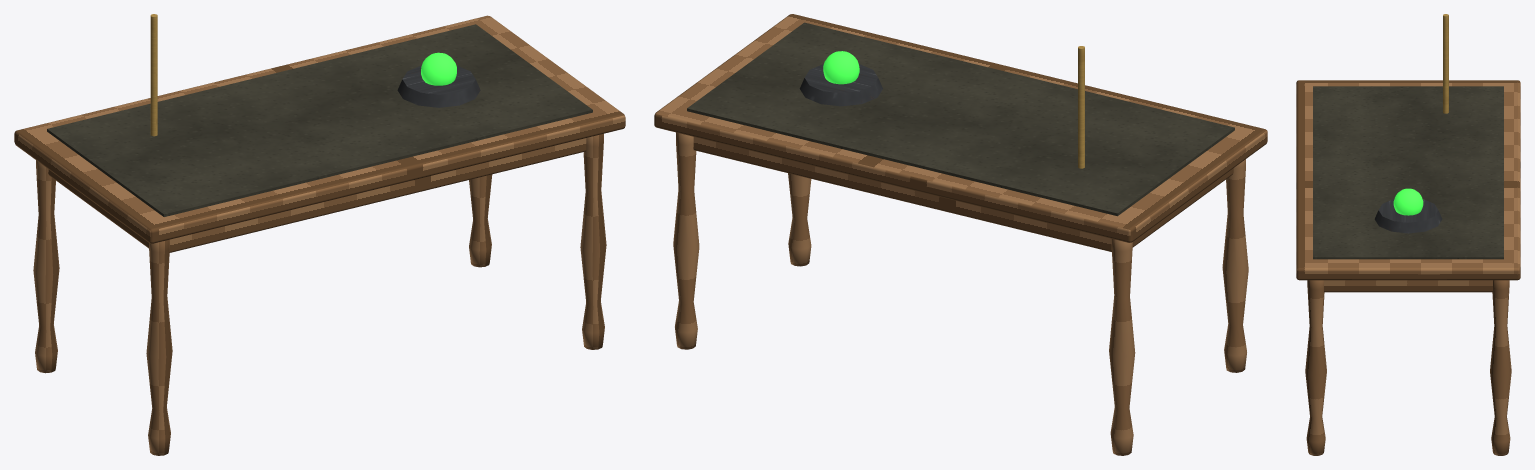
Rendered from alchemyTable.glb.
3 renders of one model, left to right at view 1: azimuth 30°, elevation 25°; view 2: azimuth 150°, elevation 25°; view 3: azimuth 270°, elevation 25°, orthographic. The views are drawn at different scales.
Visible parts, largest first — view 1: alchemyTable, dyn_wood_variant; view 2: alchemyTable, dyn_wood_variant; view 3: alchemyTable, dyn_wood_variant.
Part boxes in pixels (bbox=[...]): alchemyTable: bbox=[47, 14, 592, 216]; dyn_wood_variant: bbox=[14, 15, 625, 455]; alchemyTable: bbox=[687, 22, 1234, 216]; dyn_wood_variant: bbox=[654, 14, 1267, 455]; alchemyTable: bbox=[1313, 14, 1503, 259]; dyn_wood_variant: bbox=[1296, 80, 1520, 455].
Size of the model in its own units: 1.8 by 1.3 by 0.9002.
5 materials, 4 textured.
